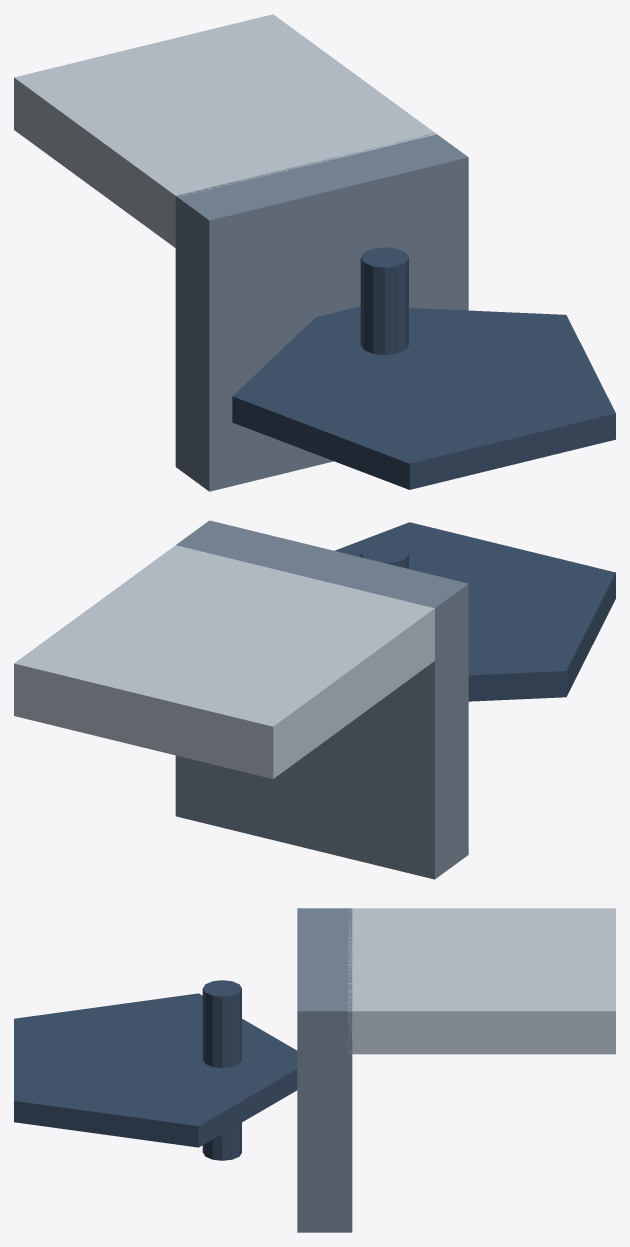
File: chair.glb
3 renders of one model, top to bottom at view 1: azimuth 30°, elevation 25°; view 2: azimuth 150°, elevation 25°; view 3: azimuth 270°, elevation 25°, orthographic. The views are drawn at different scales.
Visible parts, largest first — view 1: seat, back, base, stem; view 2: back, seat, base, stem; view 3: back, base, seat, stem.
Part boxes in pixels (left/top/right/bottom): seat: left=175, top=133, right=468, bottom=491; back: left=14, top=14, right=436, bottom=247; base: left=232, top=306, right=615, bottom=489; stem: left=360, top=247, right=408, bottom=354; back: left=14, top=545, right=434, bottom=778; seat: left=175, top=520, right=468, bottom=879; base: left=334, top=522, right=615, bottom=701; stem: left=360, top=543, right=408, bottom=568; back: left=348, top=908, right=615, bottom=1054; base: left=14, top=993, right=297, bottom=1147; seat: left=297, top=908, right=352, bottom=1232; stem: left=202, top=980, right=241, bottom=1160.
Bounding box in the file's own units: 0.7989 × 0.62 × 1.53.
